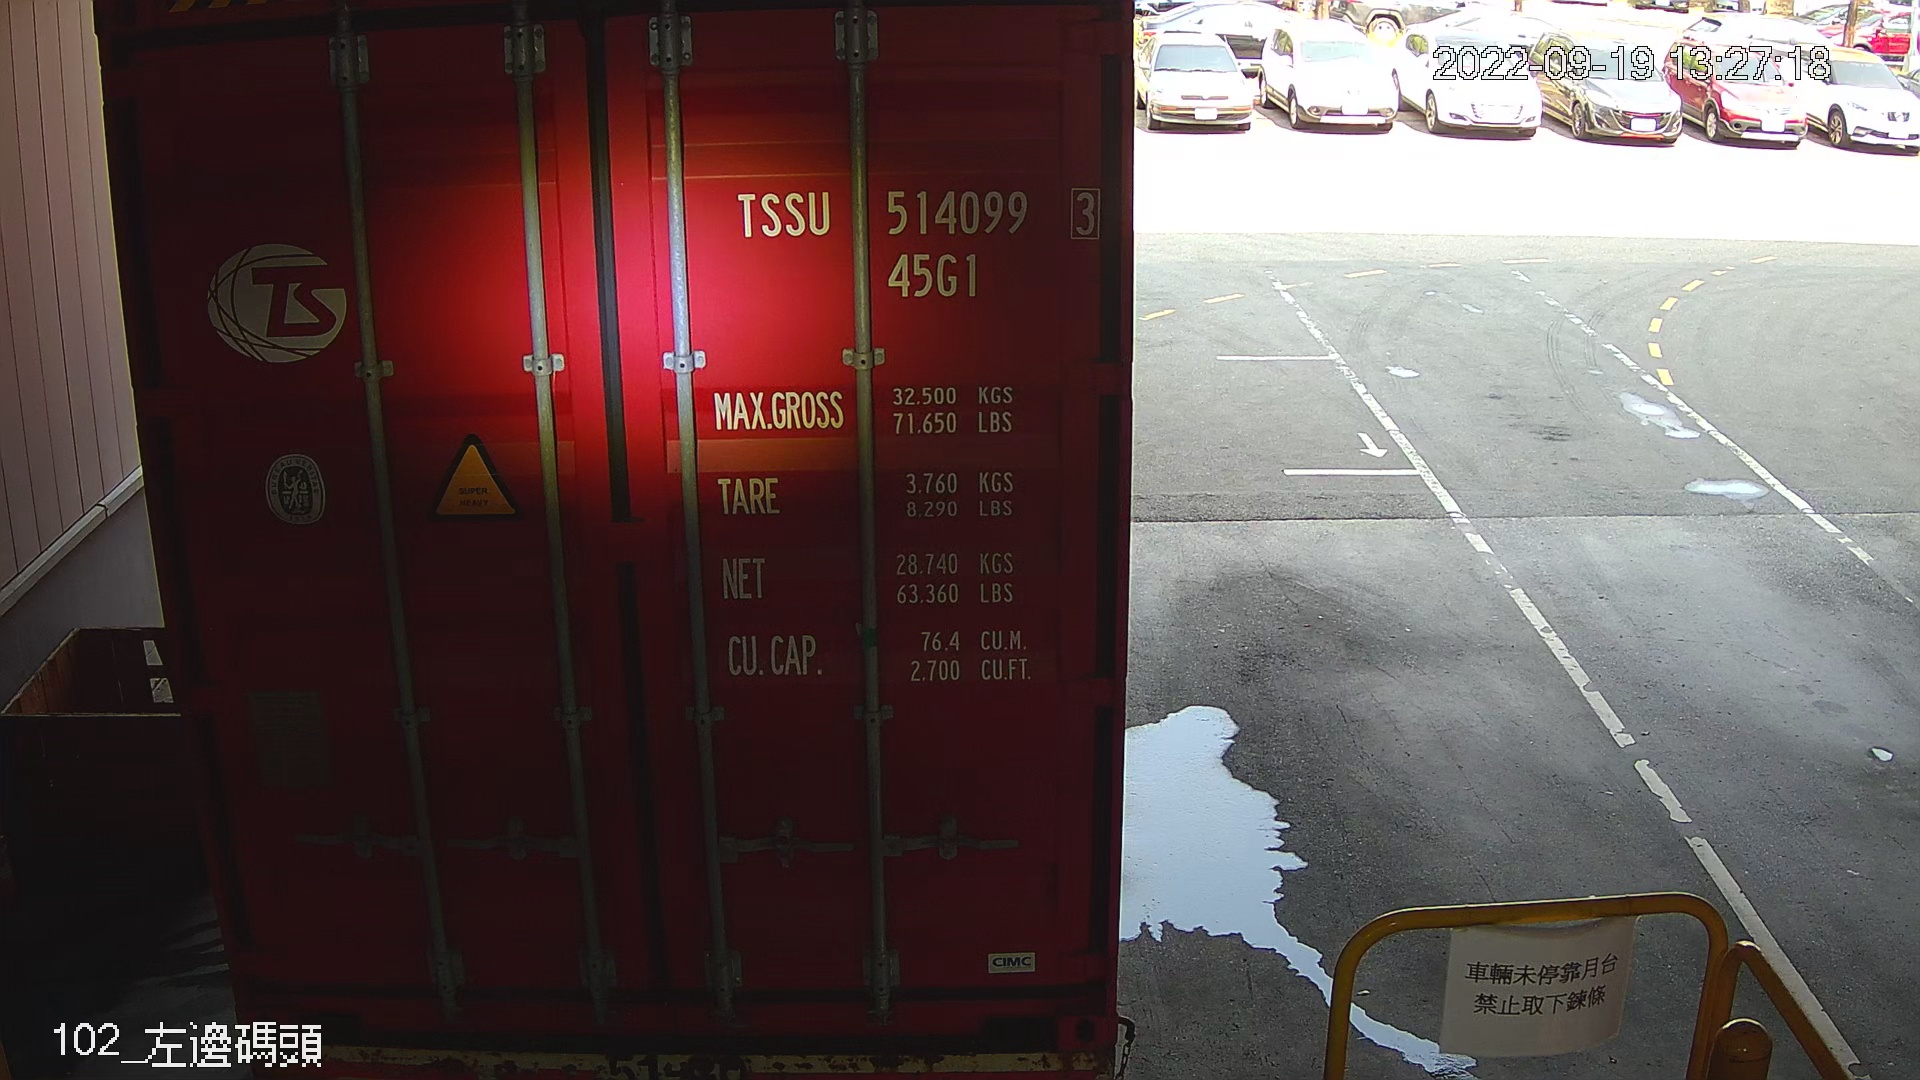container: (719, 177, 1112, 310)
